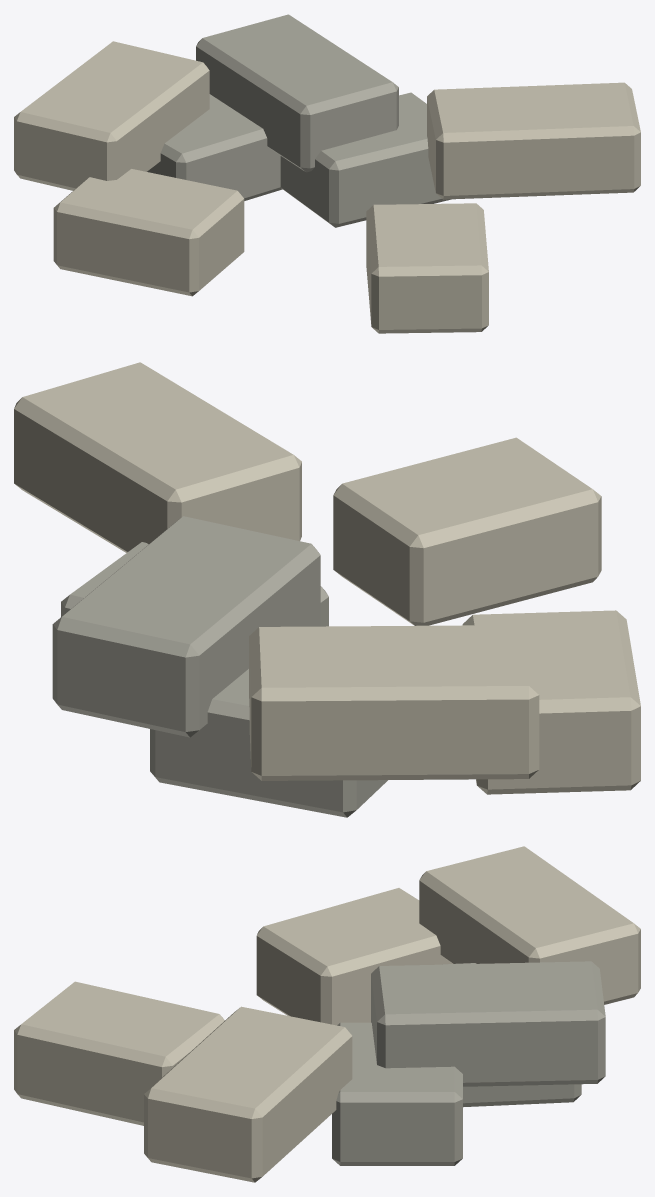
The model's file is masonry_rubble.glb.
3 renders of one model, top to bottom at view 1: azimuth 30°, elevation 25°; view 2: azimuth 150°, elevation 25°; view 3: azimuth 270°, elevation 25°, orthographic. The views are drawn at different scales.
Parts seen in each view (by area): view 1: TV_masonry_rubble; view 2: TV_masonry_rubble; view 3: TV_masonry_rubble.
Part boxes in pixels (x1=…): TV_masonry_rubble: x1=14, y1=14, x2=640, y2=333; TV_masonry_rubble: x1=14, y1=362, x2=640, y2=817; TV_masonry_rubble: x1=14, y1=846, x2=640, y2=1182.
Bounding box in the file's own units: 2 × 0.42 × 1.92.
